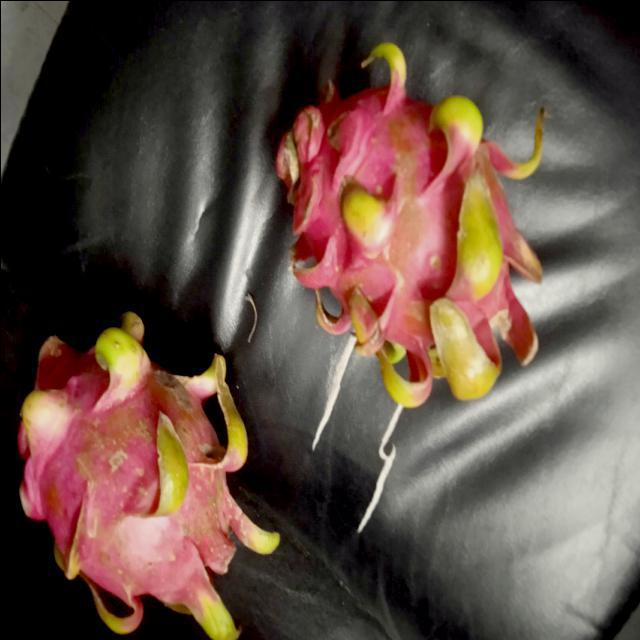do: (275, 39, 547, 401), (11, 311, 280, 639)
